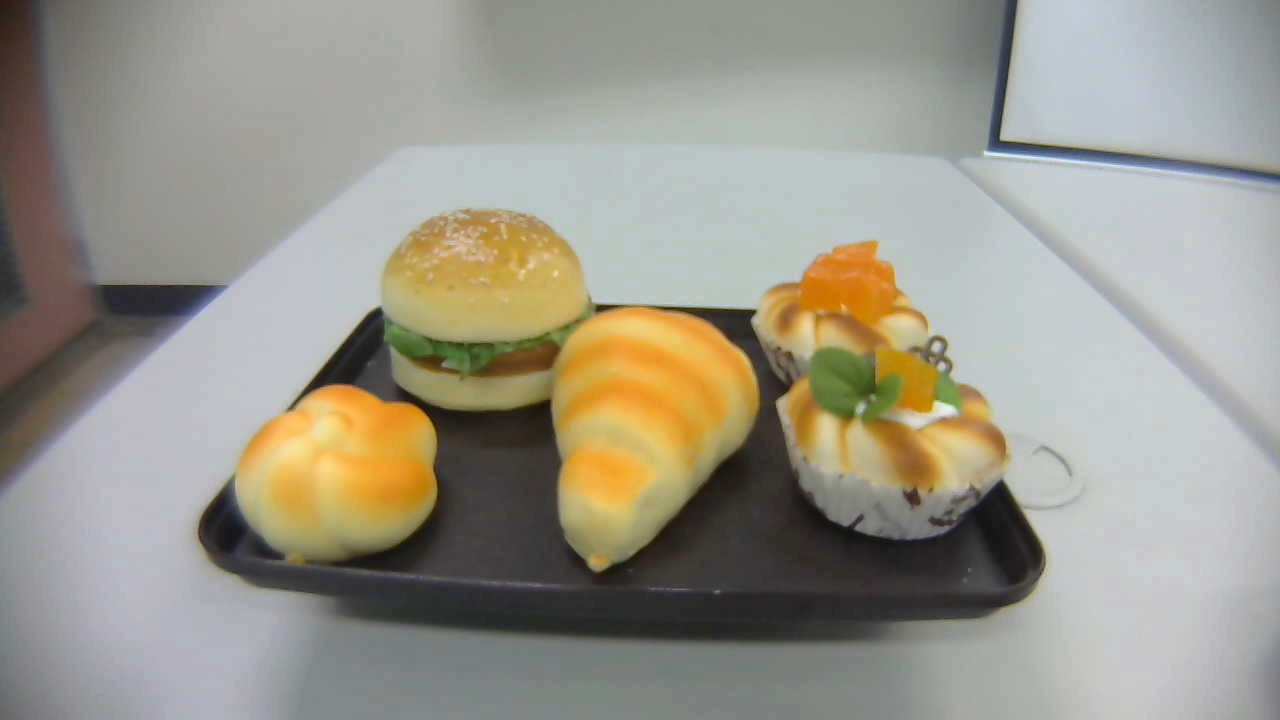croissant: (551, 306, 760, 574)
fruit tart: (775, 333, 1010, 539)
hamburger: (381, 208, 597, 412)
mango tart: (747, 241, 931, 388)
twist bread: (235, 383, 438, 565)
